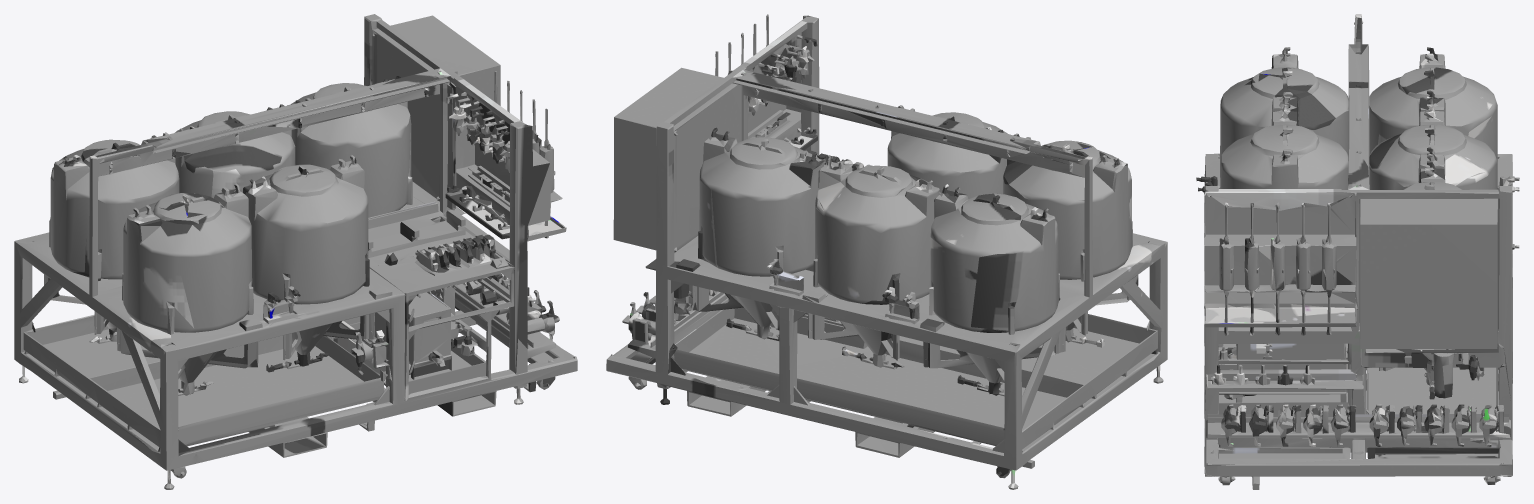
The model's file is InkTank.fbx.
The picture shows the model from 3 angles, left to right: view 1: azimuth 30°, elevation 25°; view 2: azimuth 150°, elevation 25°; view 3: azimuth 270°, elevation 25°; orthographic projection.
Parts seen in each view (by area): view 1: ProcessedMeshNode_LOD1; view 2: ProcessedMeshNode_LOD1; view 3: ProcessedMeshNode_LOD1.
Part boxes in pixels (bbox=[...]): ProcessedMeshNode_LOD1: bbox=[14, 14, 577, 489]; ProcessedMeshNode_LOD1: bbox=[606, 14, 1167, 489]; ProcessedMeshNode_LOD1: bbox=[1196, 14, 1519, 489].
Size of the model in its own units: 281 by 182 by 189.
1 material, 1 textured.
